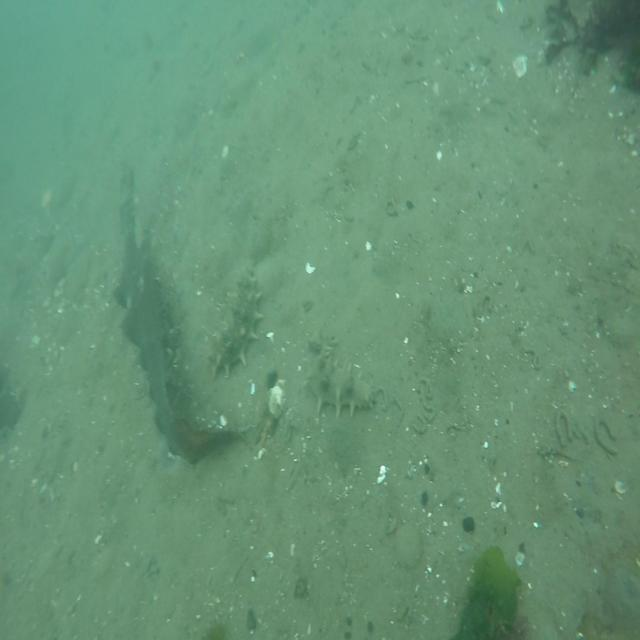holothurian: (301, 329, 376, 422), (204, 269, 266, 380)
